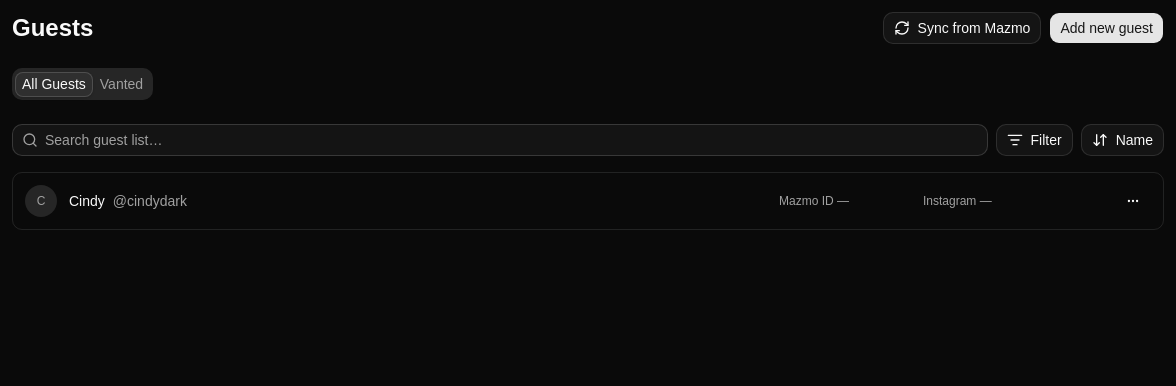
Test: GuestsPage — per-row identity management › offers Unlink Mazmo account for a linked guest, never Link
Click the button named "Guest actions".
click(1133, 201)  # box [1115,187,1151,215]
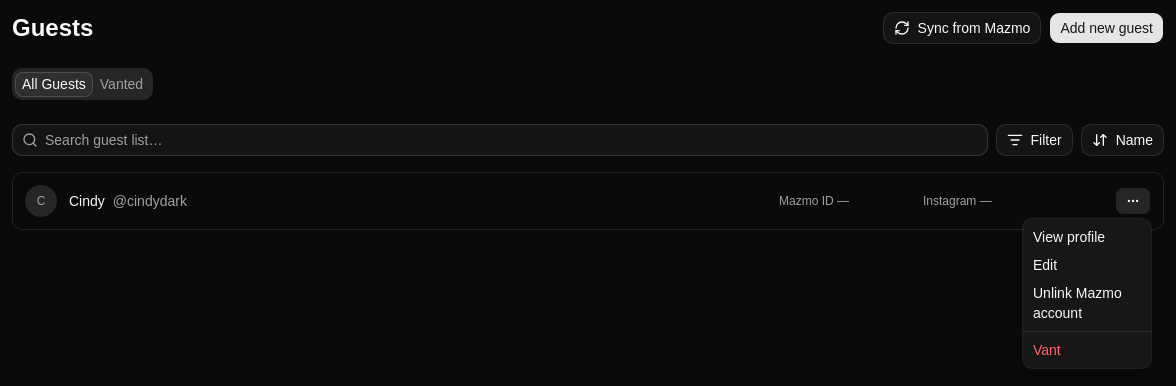
Result: the menu item "Unlink Mazmo account" is shown at [1033,285,1122,321]
